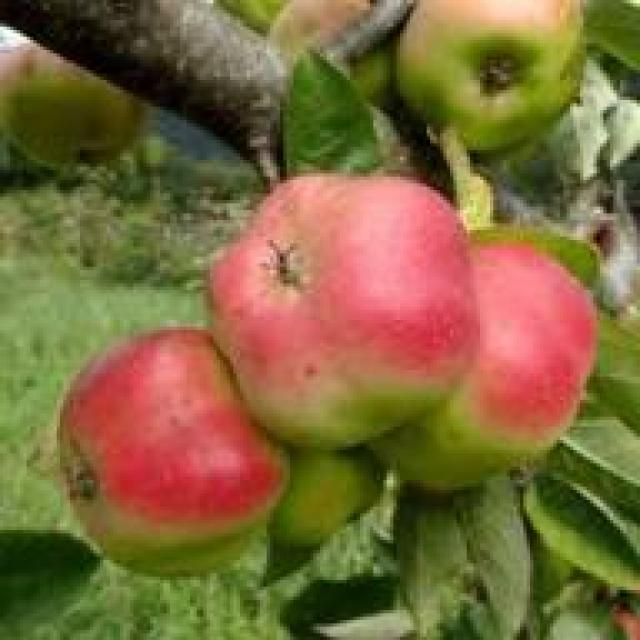apple: (210, 170, 463, 437), (37, 323, 283, 580), (370, 244, 590, 484), (396, 3, 586, 150)
